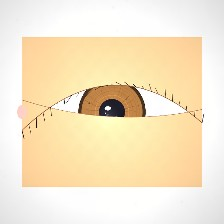pinguecula_lesion: (25, 95, 65, 127)
